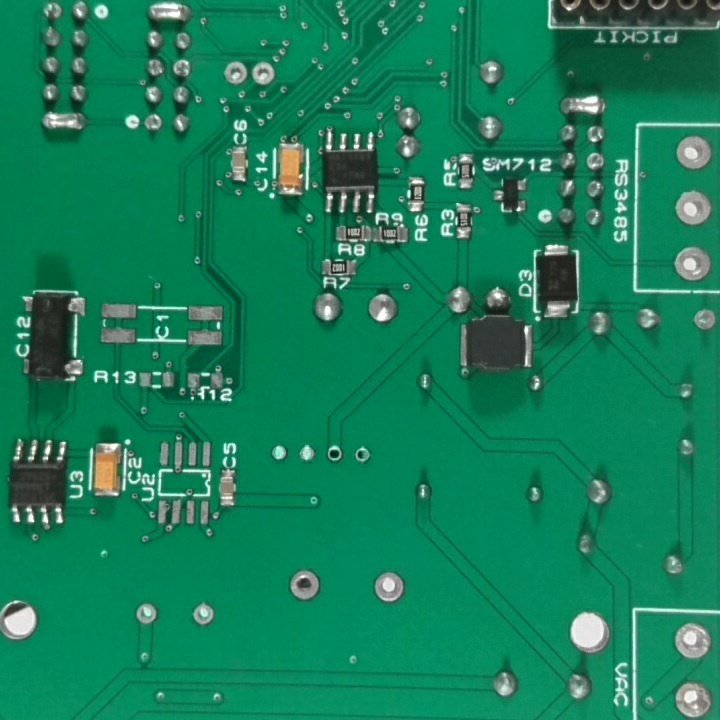F: (673, 620, 714, 665), (367, 568, 411, 609), (673, 243, 714, 286), (672, 680, 715, 719), (672, 133, 716, 171), (672, 186, 713, 226), (284, 568, 325, 606), (132, 600, 163, 629), (188, 597, 216, 629), (224, 59, 252, 89), (690, 306, 720, 334), (250, 60, 277, 87), (38, 1, 67, 23), (584, 149, 608, 175), (349, 443, 373, 468), (141, 110, 165, 134), (270, 440, 290, 466), (325, 444, 346, 466), (171, 59, 195, 78), (299, 444, 316, 468)
P: (555, 89, 613, 123), (141, 1, 194, 29), (39, 109, 92, 137)
